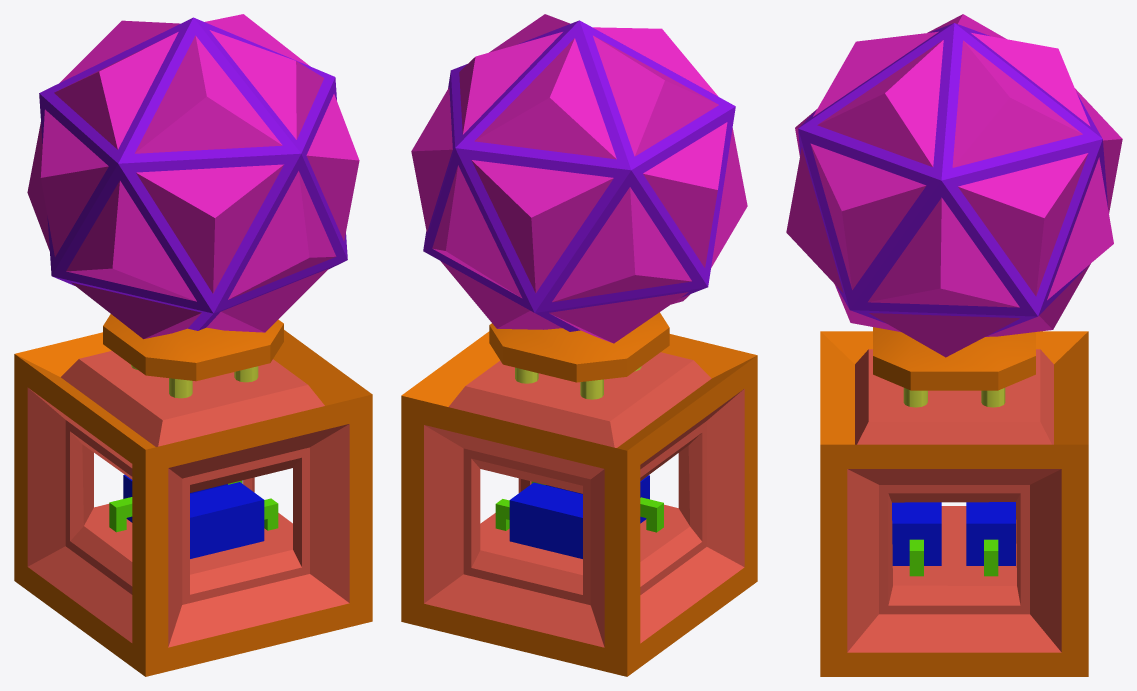
The model's file is LightningGenUVID.fbx.
3 renders of one model, left to right at view 1: azimuth 30°, elevation 25°; view 2: azimuth 150°, elevation 25°; view 3: azimuth 270°, elevation 25°, orthographic. The views are drawn at different scales.
Parts seen in each view (by area): view 1: Box, LightningSphere, Platform, Battery, Battery.001, Poles; view 2: Box, LightningSphere, Platform, Battery.001, Battery, Poles; view 3: LightningSphere, Box, Platform, Battery, Battery.001, Poles.
Part boxes in pixels (bbox=[...]): Box: bbox=[14, 330, 372, 676]; LightningSphere: bbox=[27, 14, 359, 339]; Platform: bbox=[103, 314, 283, 381]; Battery: bbox=[190, 482, 278, 558]; Battery.001: bbox=[109, 474, 241, 532]; Poles: bbox=[131, 365, 258, 398]; Box: bbox=[401, 331, 757, 676]; LightningSphere: bbox=[411, 14, 747, 343]; Platform: bbox=[489, 312, 669, 382]; Battery.001: bbox=[495, 482, 582, 558]; Battery: bbox=[531, 475, 663, 532]; Poles: bbox=[515, 366, 641, 399]; LightningSphere: bbox=[786, 14, 1122, 357]; Box: bbox=[820, 331, 1088, 676]; Platform: bbox=[873, 327, 1035, 390]; Battery: bbox=[892, 502, 941, 576]; Battery.001: bbox=[966, 502, 1015, 576]; Poles: bbox=[903, 388, 1005, 407].
Bounding box in the file's own units: 257 × 492 × 251.
